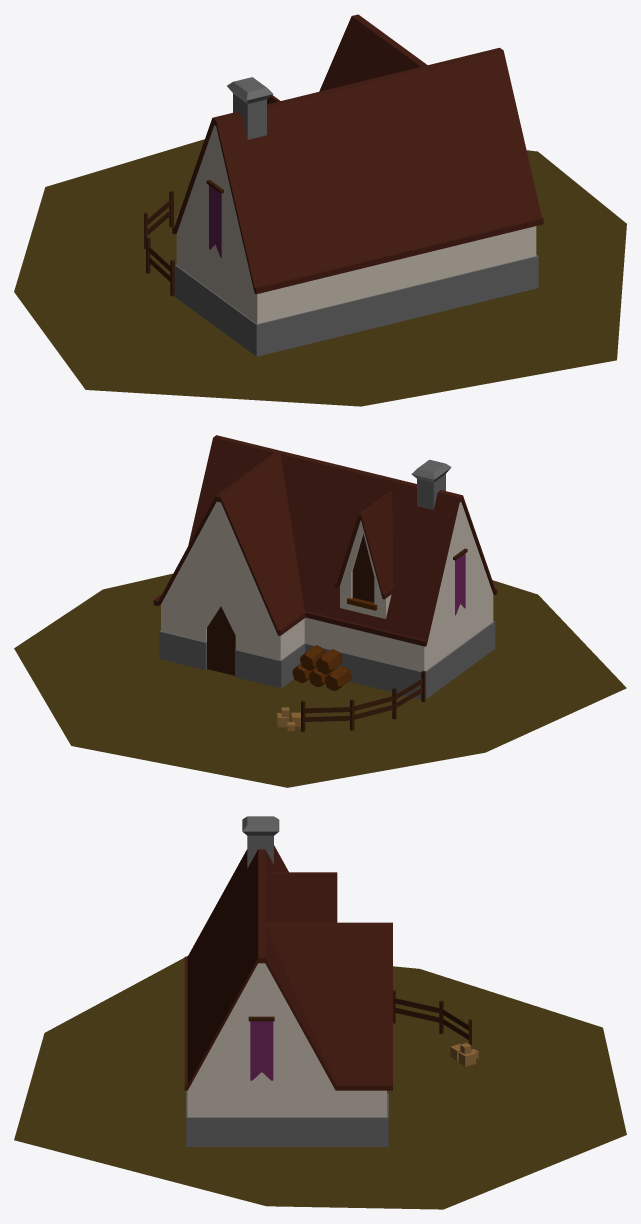
The model's file is Dwelling1V6.fbx.
3 renders of one model, top to bottom at view 1: azimuth 30°, elevation 25°; view 2: azimuth 150°, elevation 25°; view 3: azimuth 270°, elevation 25°, orthographic. The views are drawn at different scales.
Visible parts, largest first — view 1: Plane.1293; view 2: Plane.1293; view 3: Plane.1293.
Boxes of the visible parts, box(x1,y1,x2,y2) form: Plane.1293: box(14, 14, 626, 406); Plane.1293: box(14, 435, 626, 787); Plane.1293: box(14, 816, 626, 1209).
Bounding box in the file's own units: 418 × 162 × 414.
